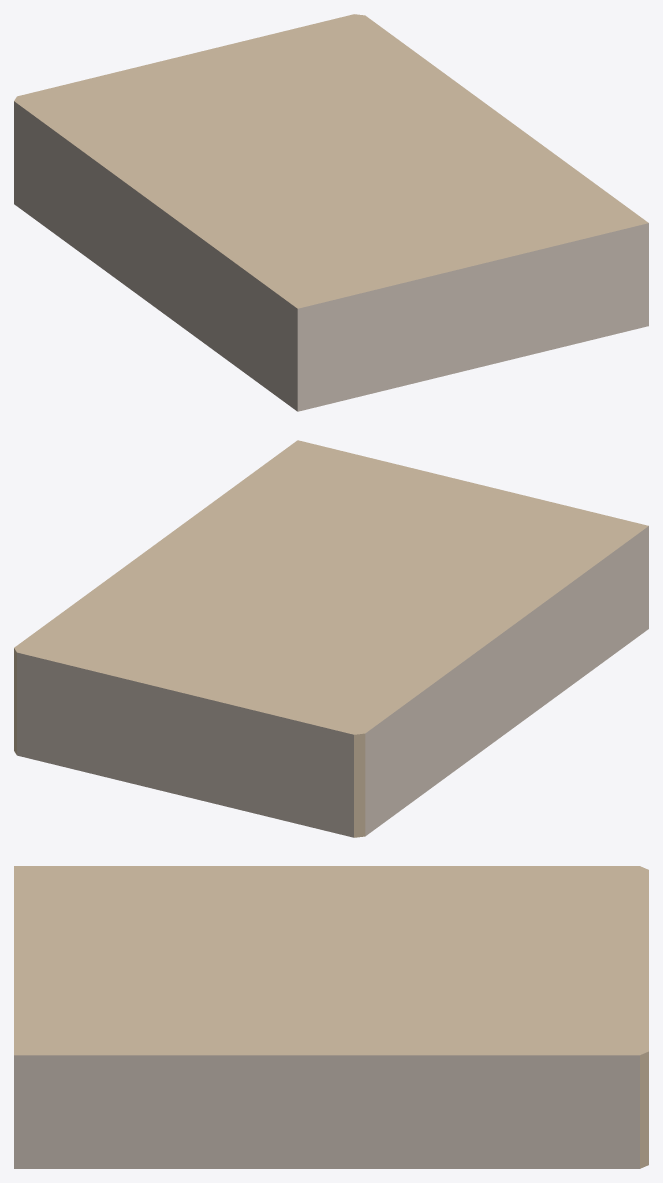
The model's file is tile4.fbx.
3 renders of one model, top to bottom at view 1: azimuth 30°, elevation 25°; view 2: azimuth 150°, elevation 25°; view 3: azimuth 270°, elevation 25°, orthographic. The views are drawn at different scales.
Visible parts, largest first — view 1: Tile4MainP; view 2: Tile4MainP; view 3: Tile4MainP.
Boxes of the visible parts, bbox=[...] form: Tile4MainP: bbox=[14, 14, 648, 411]; Tile4MainP: bbox=[14, 440, 648, 837]; Tile4MainP: bbox=[14, 866, 648, 1168].
Bounding box in the file's own units: 49.86 × 13.97 × 70.75.
